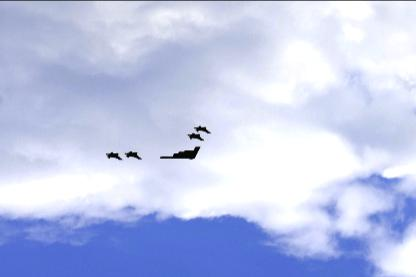B1: (160, 146, 200, 160)
F18: (194, 125, 212, 133), (187, 133, 205, 141), (105, 152, 123, 160), (126, 151, 142, 159)
